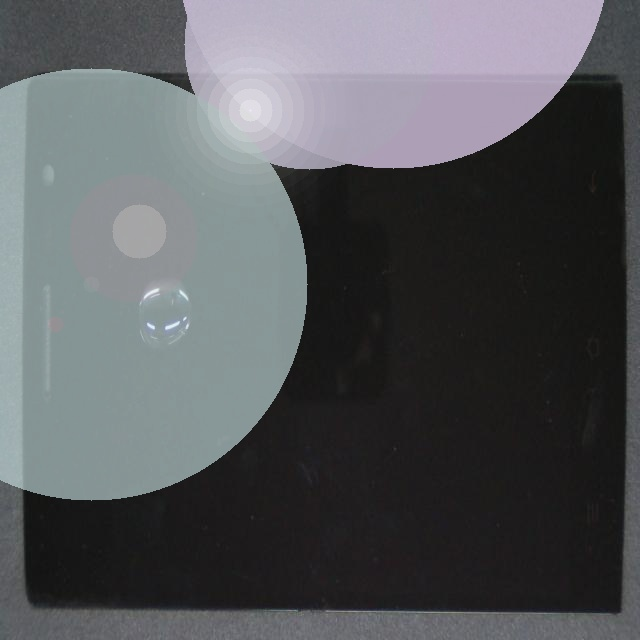oil: (110, 168, 292, 452)
